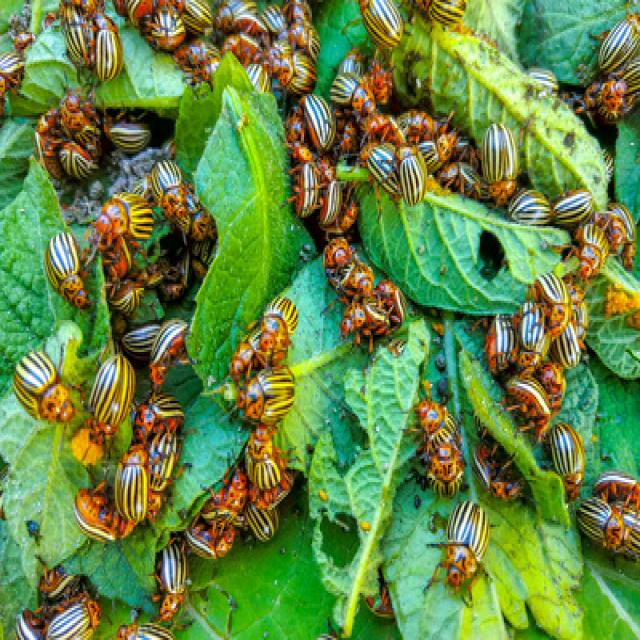ShuCaiHuaBanChong-Grown-: (7, 349, 79, 434), (228, 356, 310, 426), (84, 349, 142, 445), (439, 489, 492, 589), (34, 226, 100, 300), (151, 529, 194, 629), (247, 272, 305, 344), (475, 119, 529, 196), (540, 418, 594, 494), (144, 156, 204, 220), (297, 87, 351, 154), (57, 138, 116, 198), (333, 56, 383, 125), (570, 499, 628, 557), (282, 162, 328, 227), (100, 108, 165, 154), (124, 448, 162, 525), (393, 137, 431, 209), (503, 178, 556, 228), (590, 15, 638, 66), (484, 312, 522, 374), (547, 176, 591, 223), (517, 299, 552, 358), (532, 262, 578, 304)
